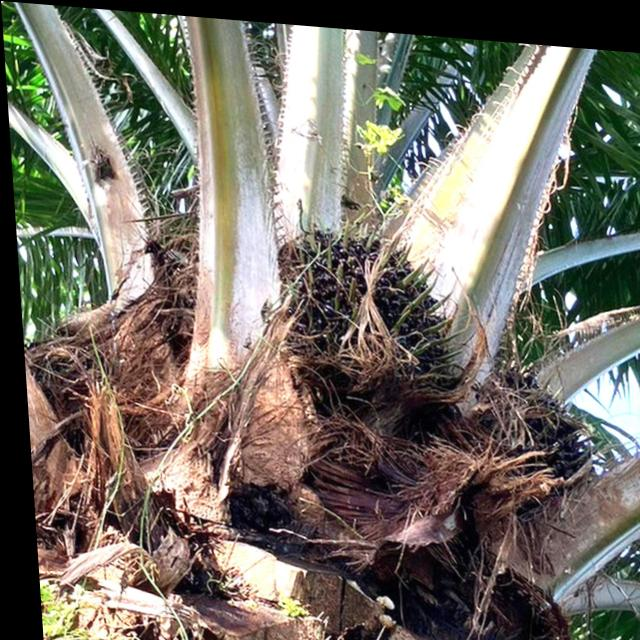unripe: (263, 179, 477, 418)
